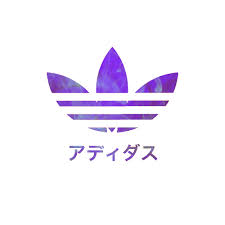adidas: (45, 48, 178, 160)
